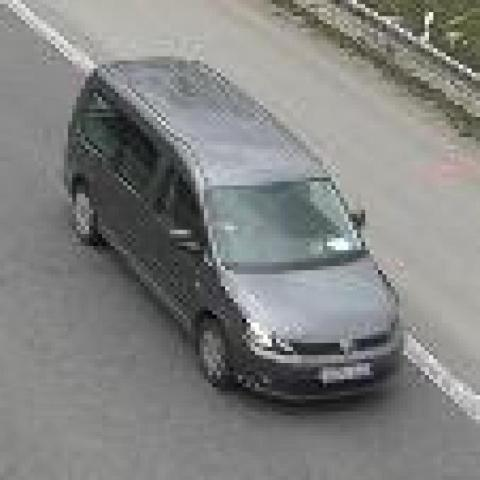van: (61, 59, 406, 409)
